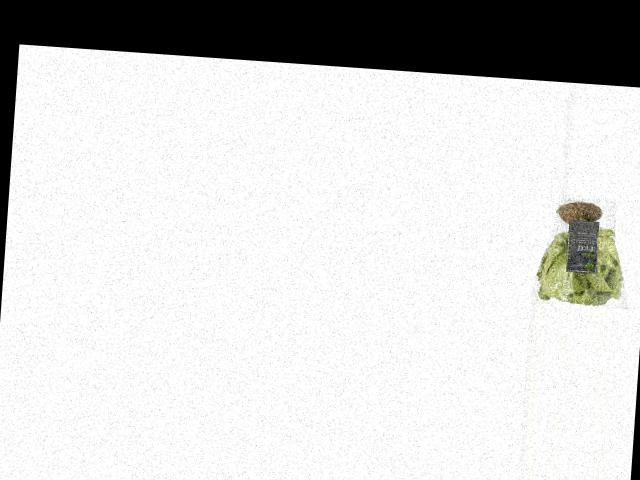lettuce: (531, 192, 633, 309)
